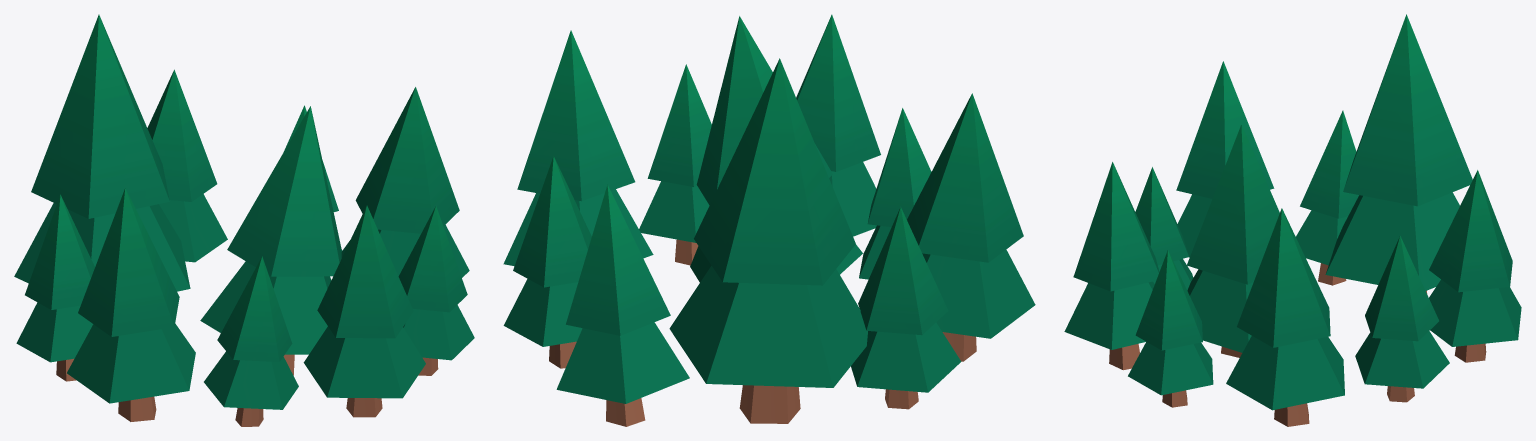
File: kk_grove_v1.glb
The picture shows the model from 3 angles, left to right: view 1: azimuth 30°, elevation 25°; view 2: azimuth 150°, elevation 25°; view 3: azimuth 270°, elevation 25°; orthographic projection. The views are drawn at different scales.
Visible parts, largest first — view 1: trees_A_medium; view 2: trees_A_medium; view 3: trees_A_medium.
Part boxes in pixels (left/top/right/bottom): trees_A_medium: left=14, top=14, right=474, bottom=426; trees_A_medium: left=503, top=14, right=1035, bottom=426; trees_A_medium: left=1064, top=14, right=1521, bottom=426.
Size of the model in its own units: 1.75 by 1.3 by 1.81.
Materials: 1 (1 with a texture image).
